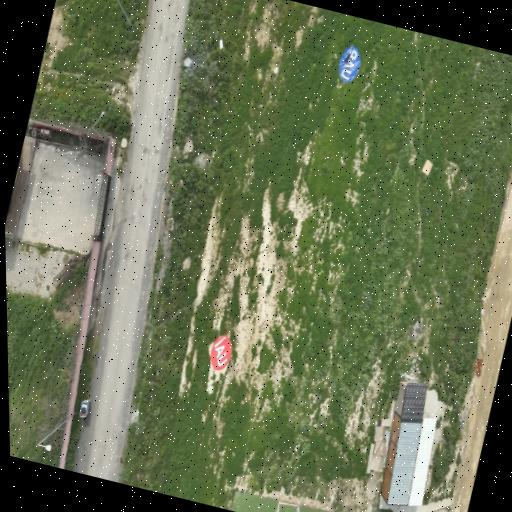person: (345, 54, 350, 65)
uai: (211, 336, 232, 370)
uap: (339, 46, 361, 83)
